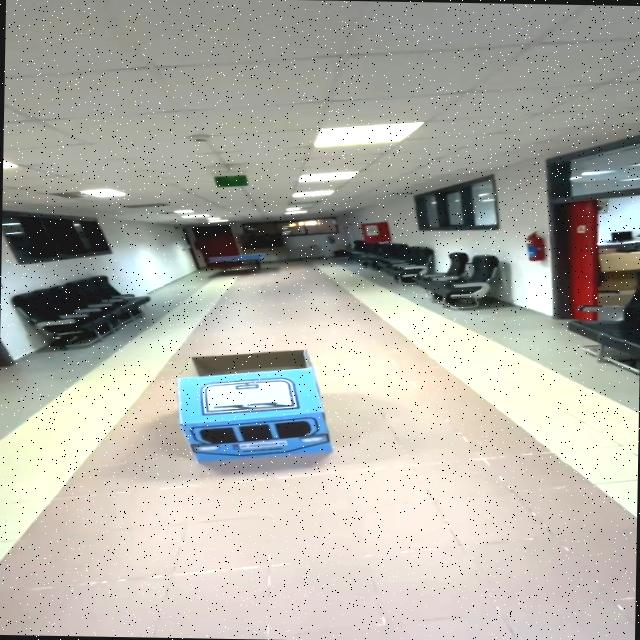blue_car: (142, 336, 390, 486)
